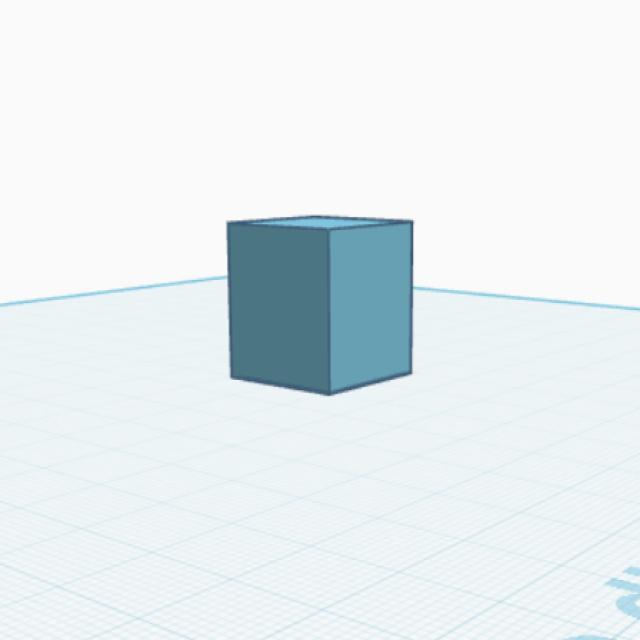cube: (220, 204, 418, 400)
